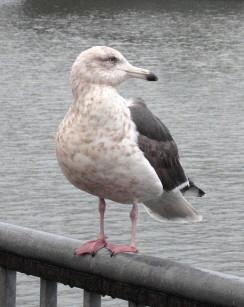bird: (52, 39, 209, 256)
